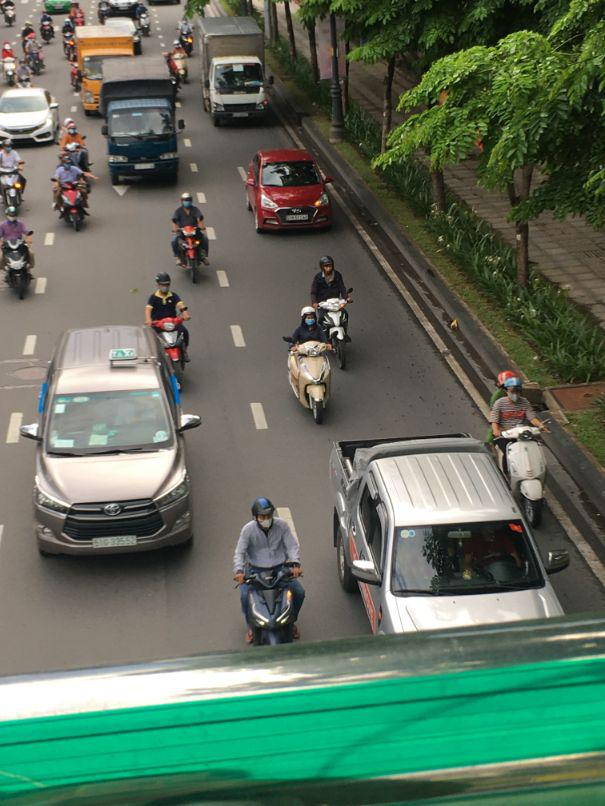car: (30, 321, 199, 556), (244, 145, 336, 234), (0, 87, 61, 143)
motorbike: (492, 427, 548, 528), (239, 570, 304, 647), (286, 337, 332, 422), (313, 293, 354, 371), (172, 219, 211, 286), (53, 177, 93, 232), (1, 240, 35, 302)
truck: (104, 86, 180, 191), (203, 29, 270, 128)
